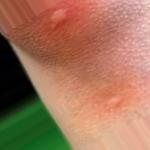Ants: (43, 6, 68, 29), (103, 93, 123, 115)
